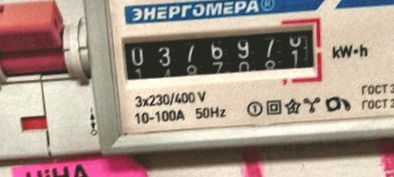0: (128, 45, 144, 68)
1: (287, 49, 301, 70)
3: (156, 45, 172, 69)
6: (207, 37, 224, 61)
7: (180, 40, 197, 65), (261, 36, 277, 60)
9: (233, 37, 250, 61)
screen: (111, 13, 327, 103)
